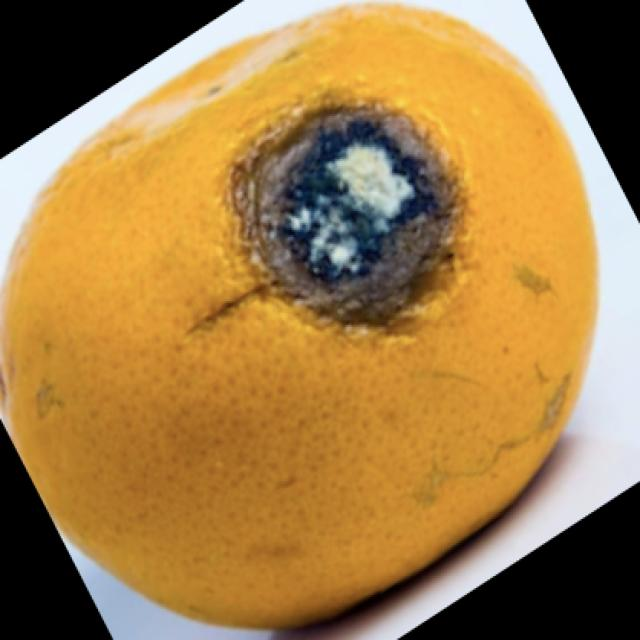sedikit_busuk: (0, 0, 601, 630)
